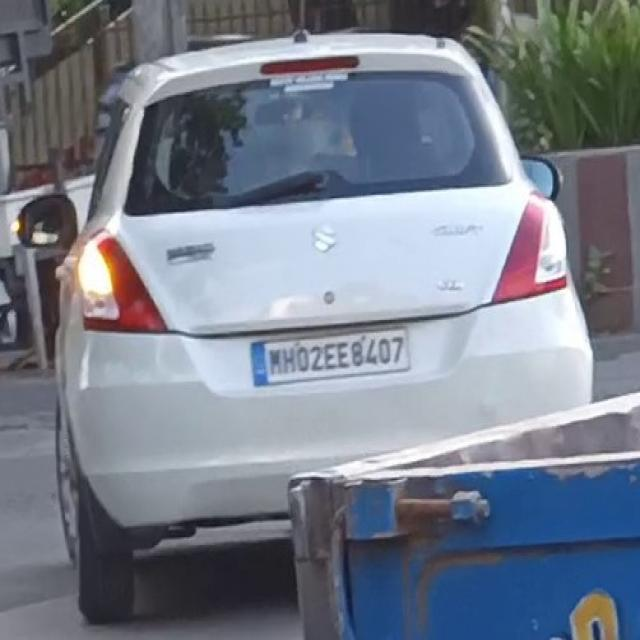Plate: (251, 326, 408, 384)
